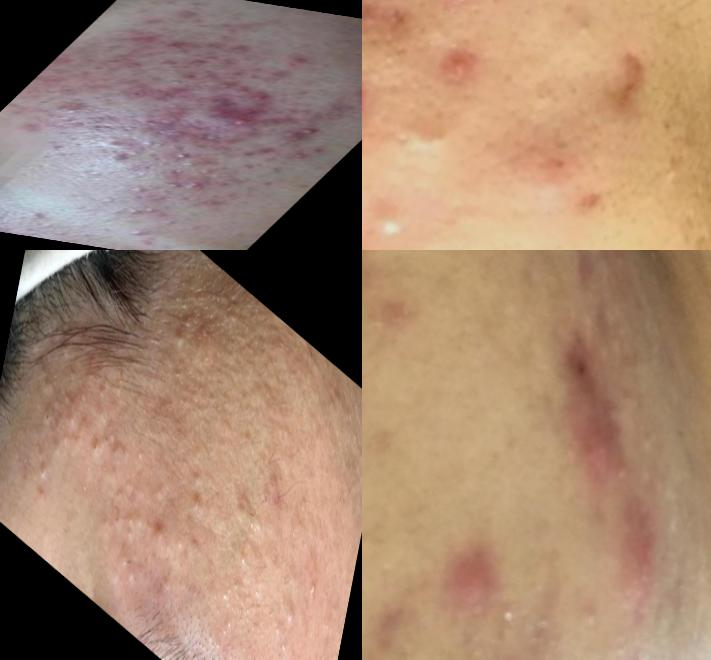acne_scars: (512, 318, 669, 493), (596, 494, 685, 600), (421, 1, 498, 24)
blackhead: (29, 393, 57, 458), (280, 591, 301, 638), (33, 364, 56, 399), (86, 431, 104, 468)
papular: (419, 533, 522, 632), (187, 101, 287, 138), (110, 81, 197, 109), (262, 119, 334, 146), (85, 53, 159, 78), (192, 37, 266, 61), (107, 25, 180, 49), (215, 84, 285, 109), (136, 37, 206, 60), (42, 99, 104, 123), (157, 68, 212, 90), (271, 50, 323, 69)
purulent: (302, 563, 325, 615)
whitehead: (417, 29, 492, 107), (565, 585, 617, 648), (523, 58, 567, 122), (90, 360, 130, 426), (419, 110, 466, 162), (111, 536, 145, 602), (366, 199, 416, 243), (566, 4, 609, 52), (363, 122, 391, 177), (118, 497, 144, 552), (493, 591, 526, 632), (528, 603, 562, 640), (120, 197, 173, 219), (126, 429, 151, 473), (659, 161, 689, 196), (147, 464, 169, 507), (32, 453, 53, 493), (123, 134, 175, 150), (216, 578, 236, 616), (172, 323, 191, 357), (169, 523, 186, 561), (122, 223, 157, 241), (189, 489, 206, 524), (236, 543, 252, 579), (162, 149, 206, 162), (264, 465, 281, 498), (107, 432, 124, 465), (169, 158, 205, 173), (257, 482, 273, 512), (69, 406, 83, 433), (67, 369, 80, 396), (159, 181, 190, 192), (60, 427, 71, 453), (121, 185, 146, 195)
